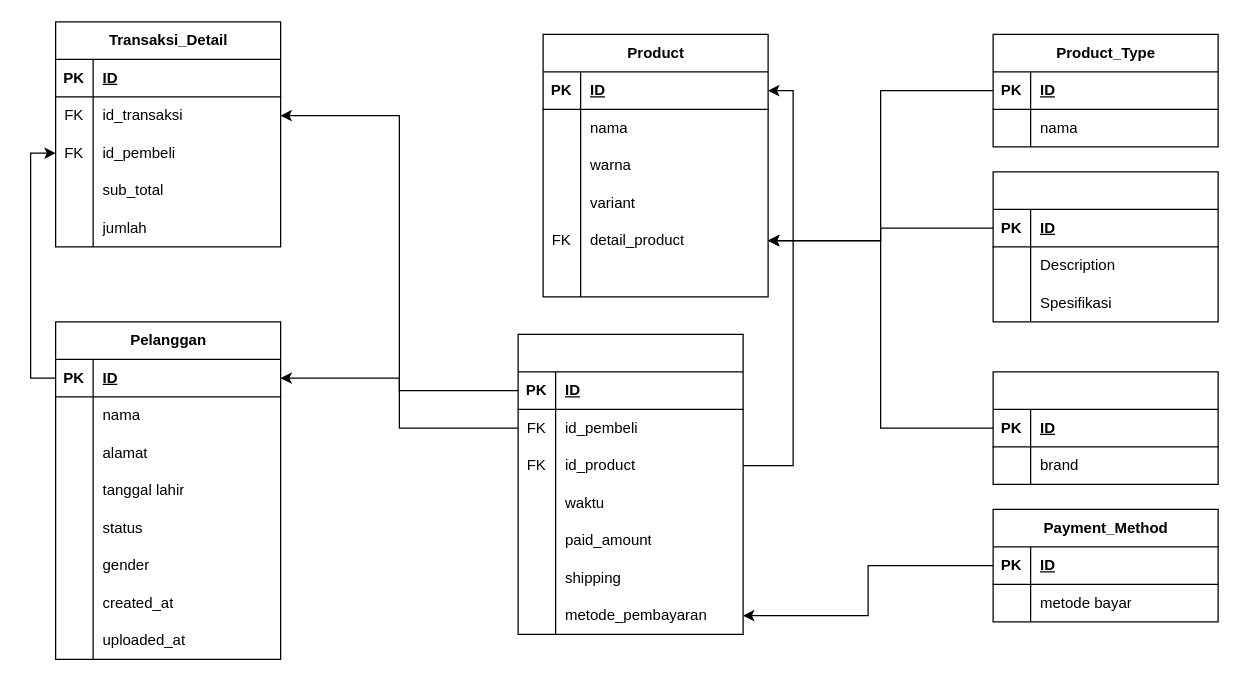
Some shapes in this 1240 by 681 pixel diagram are drawn without their labels. Each missing label, with the box of its shape:
Merk: (992, 371, 1218, 484)
Product_Description: (992, 171, 1218, 322)
Transaksi: (517, 333, 743, 634)
